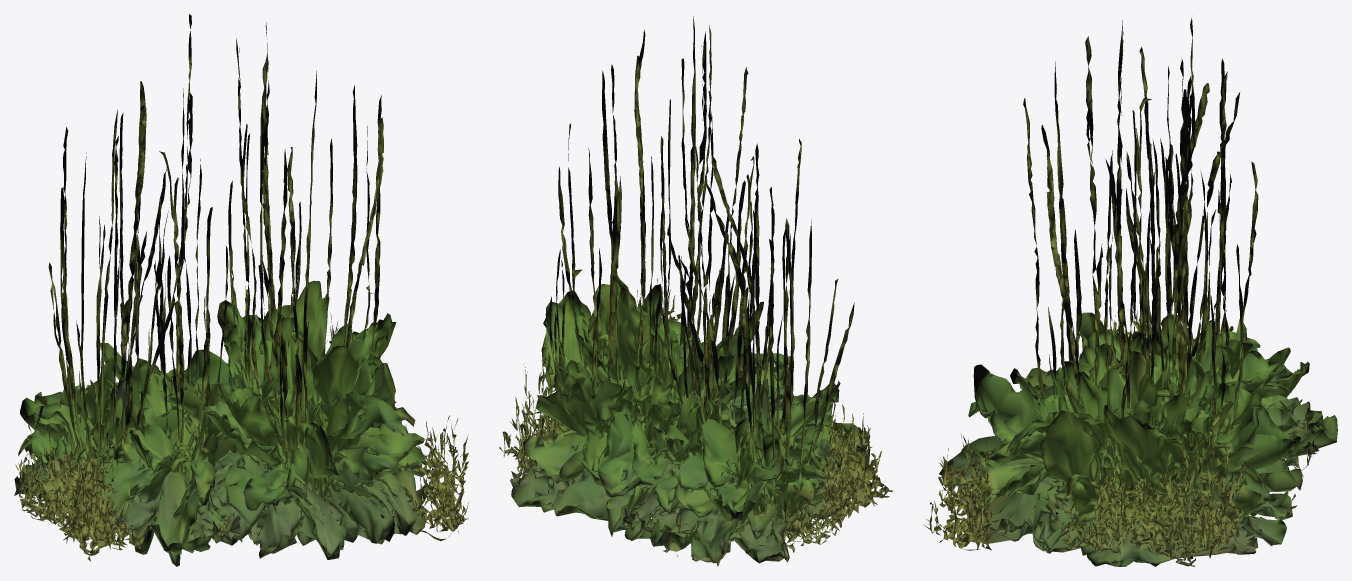
Rendered from plantain.glb.
3 views of the same model, side by side, from view 1: azimuth 30°, elevation 25°; view 2: azimuth 150°, elevation 25°; view 3: azimuth 270°, elevation 25° (orthographic). The views are drawn at different scales.
Visible parts, largest first — view 1: Mesh_0.001; view 2: Mesh_0.001; view 3: Mesh_0.001.
Boxes of the visible parts, x1,y1,x2,y2 form: Mesh_0.001: [14, 14, 468, 566]; Mesh_0.001: [499, 16, 892, 566]; Mesh_0.001: [924, 18, 1337, 566].
Size of the model in its own units: 1.2 by 1.5 by 1.2.
